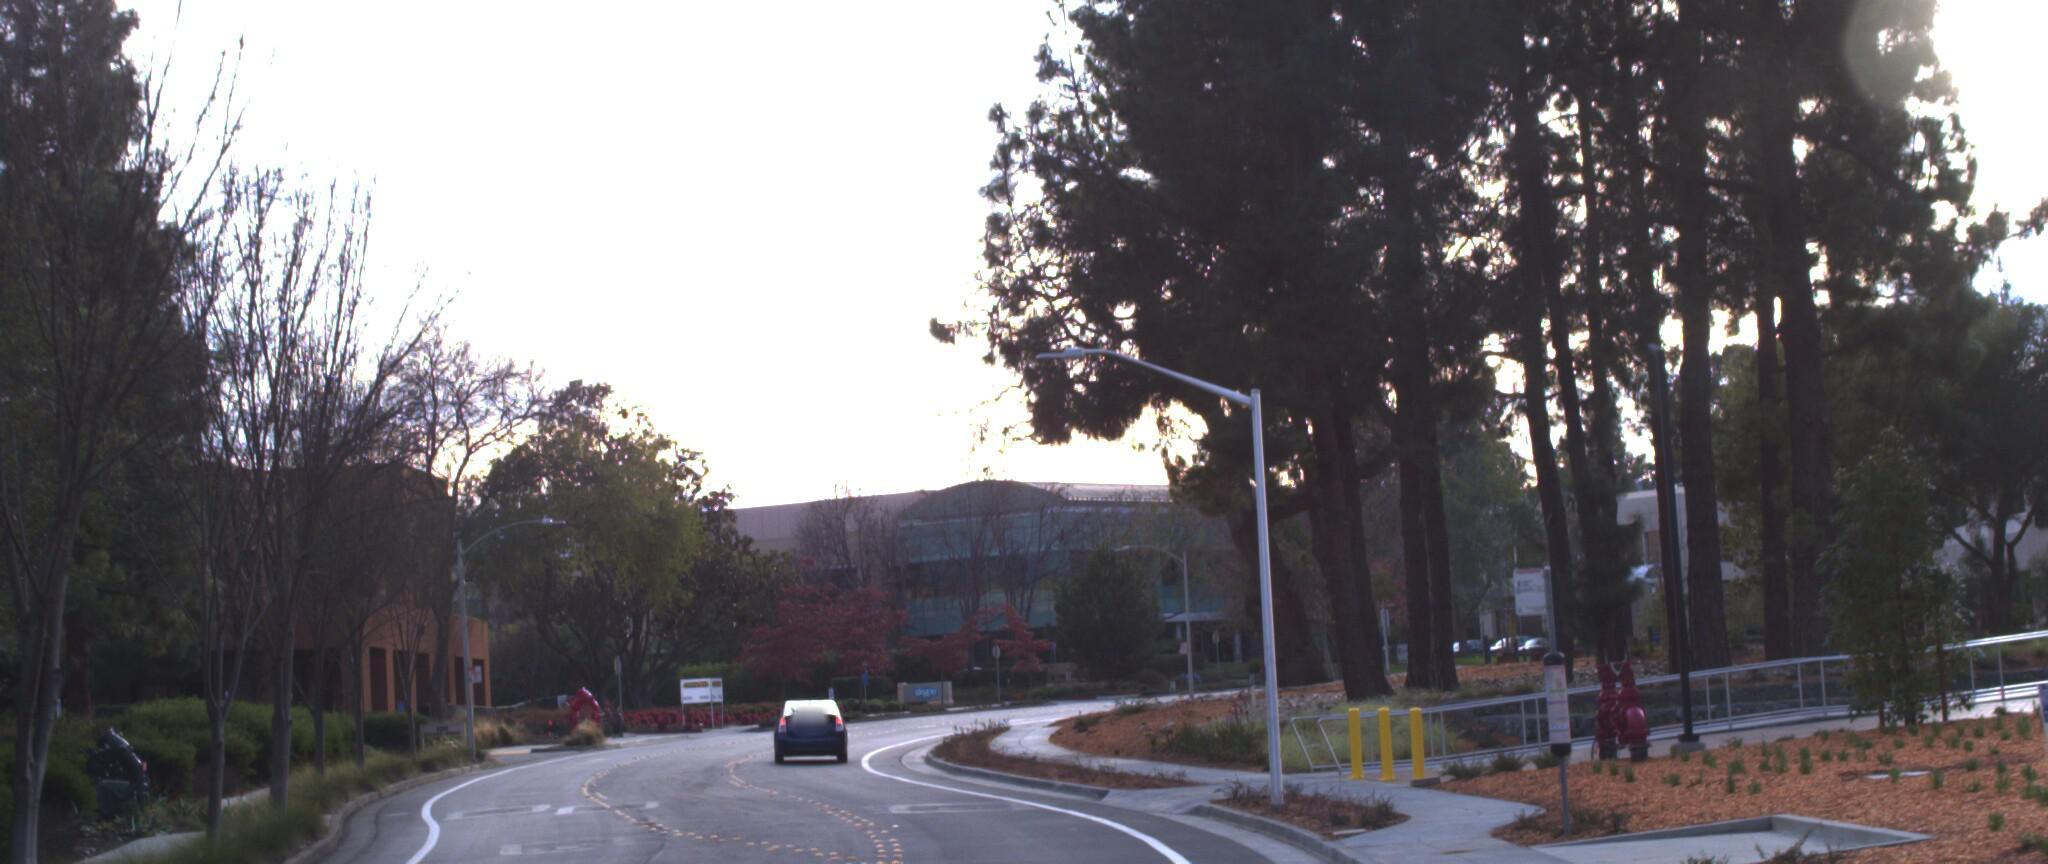car: (775, 697, 856, 777)
